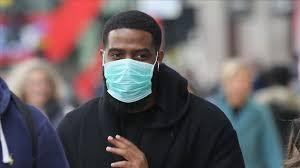Wearing Mask: (97, 9, 165, 105)
